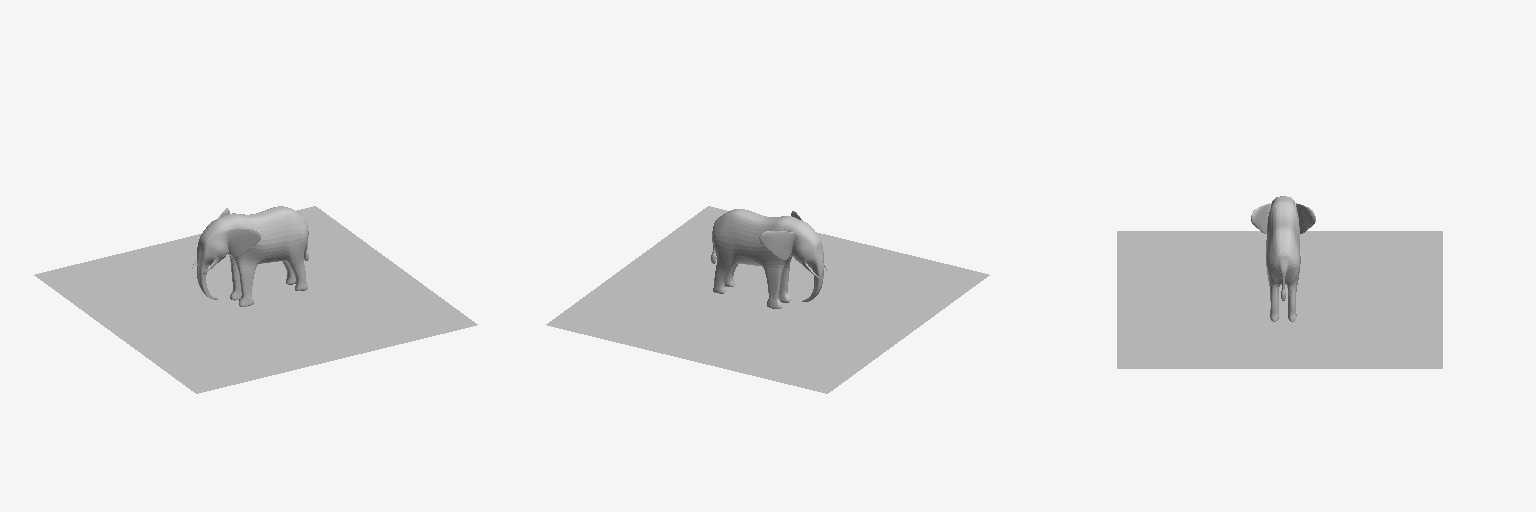
The model's file is elephant.obj.
The picture shows the model from 3 angles: view 1: azimuth 30°, elevation 25°; view 2: azimuth 150°, elevation 25°; view 3: azimuth 270°, elevation 25°; orthographic projection.
Parts seen in each view (by area): view 1: Plane.001, Plane; view 2: Plane.001, Plane; view 3: Plane.001, Plane.
Part boxes in pixels (left/top/right/bottom): Plane.001: left=34, top=206, right=477, bottom=393; Plane: left=192, top=206, right=308, bottom=306; Plane.001: left=546, top=206, right=989, bottom=393; Plane: left=711, top=209, right=827, bottom=308; Plane.001: left=1117, top=231, right=1442, bottom=368; Plane: left=1251, top=196, right=1315, bottom=321.
Bounding box in the file's own units: 14.92 × 4.49 × 14.92.